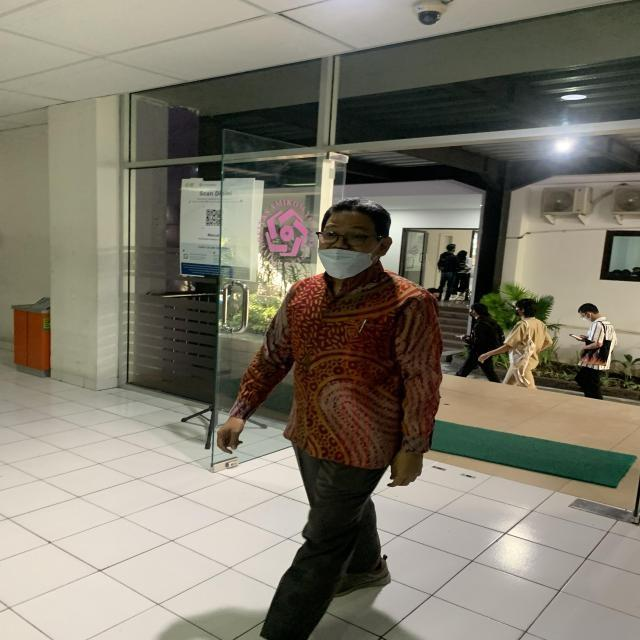hairnet: (314, 194, 394, 281)
